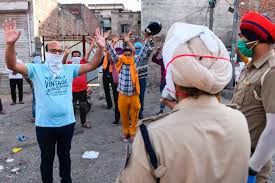mask: (235, 24, 265, 70), (42, 40, 63, 68), (119, 48, 134, 63), (69, 49, 85, 63)
